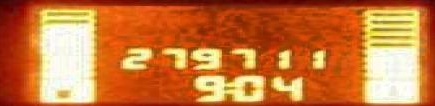0: (229, 74, 263, 102)
1: (273, 47, 289, 68), (307, 48, 323, 68)
2: (115, 45, 149, 68)
4: (265, 74, 302, 102)
7: (156, 46, 185, 67), (227, 47, 255, 68)
9: (187, 73, 224, 100), (188, 46, 222, 70)
X: (221, 80, 232, 93)
